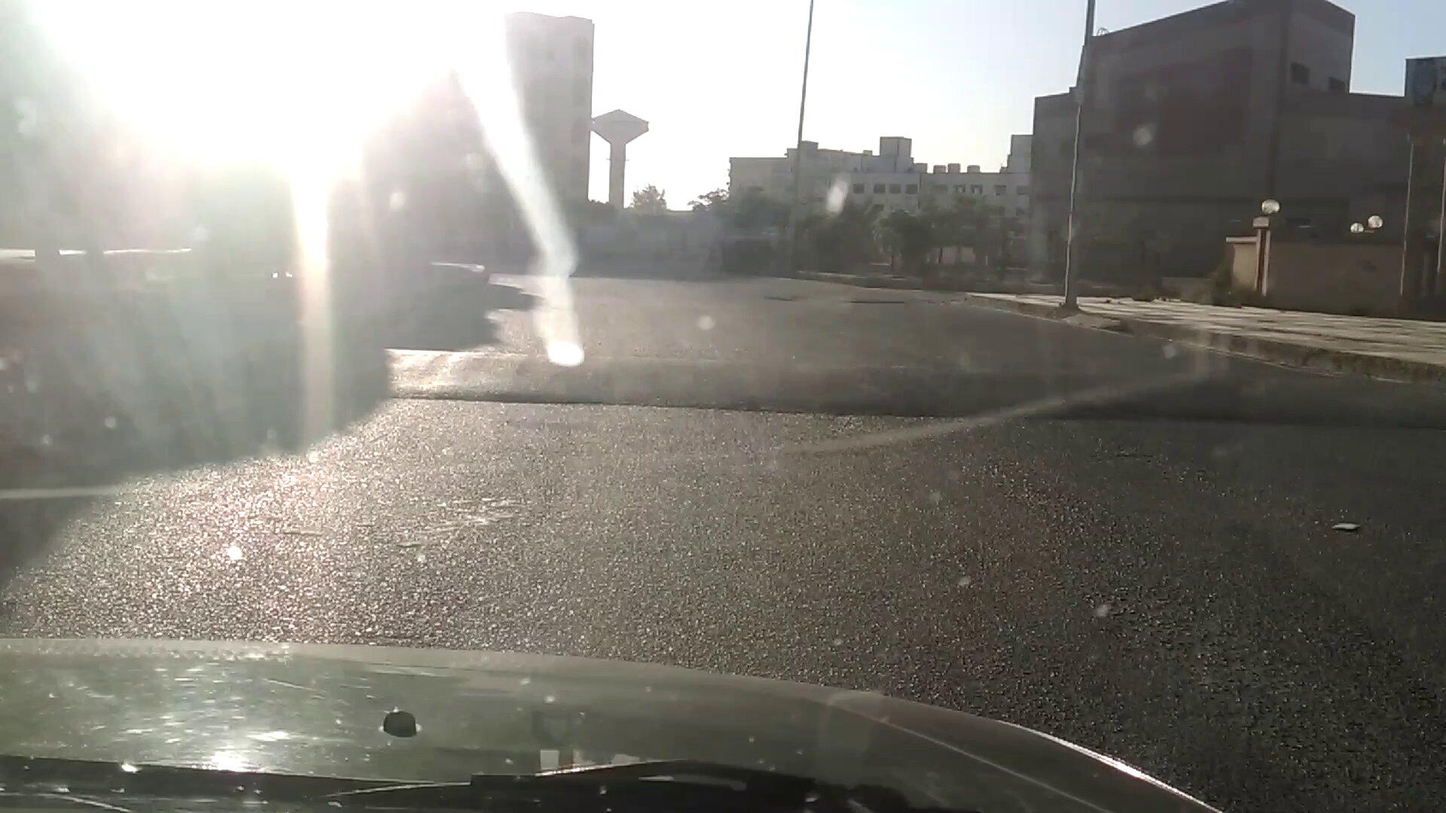Bump: (339, 327, 1446, 444)
